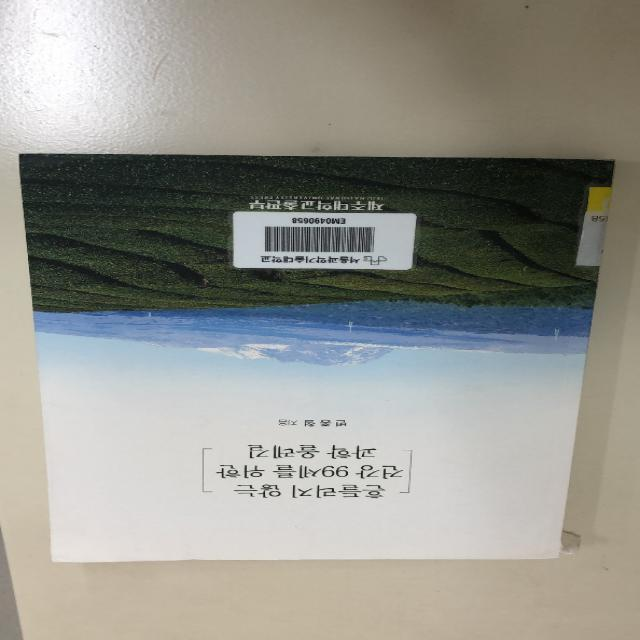Ripped: (550, 526, 584, 562)
Wornout: (566, 155, 618, 168)
